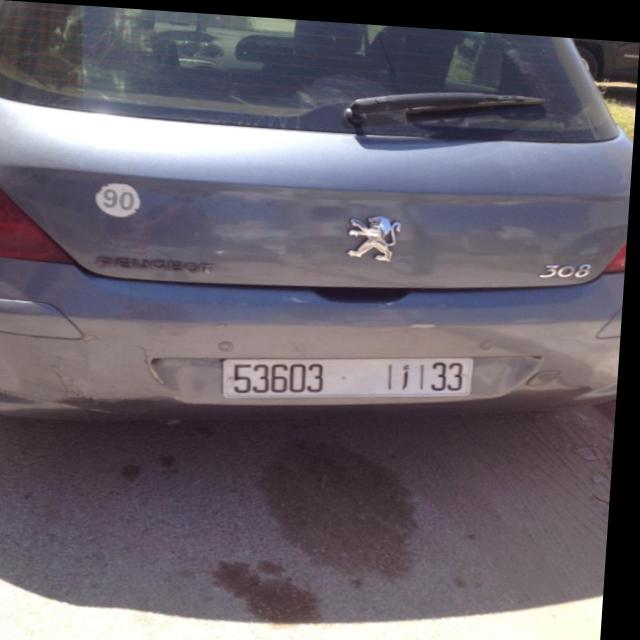License-Plate: (228, 351, 478, 395)
